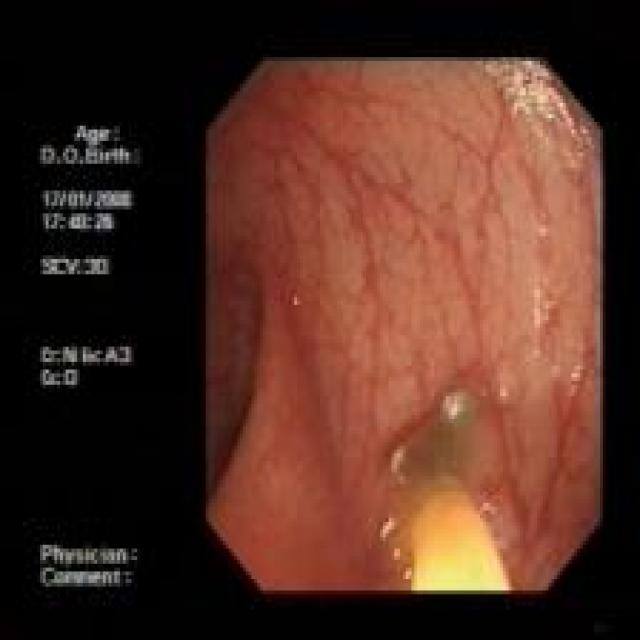blur: (228, 374, 513, 589)
color misalignment: (38, 113, 149, 594)
contrast: (208, 261, 260, 514)
instrument: (388, 387, 511, 589)
saturation: (412, 524, 508, 590)
